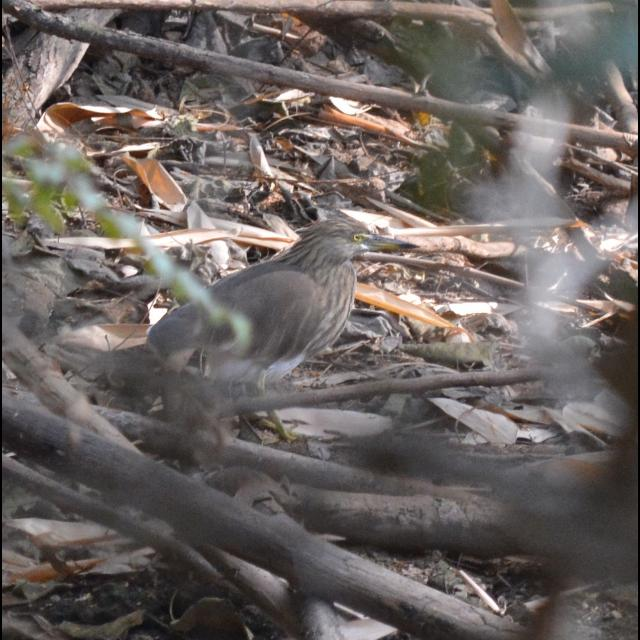heron: (156, 206, 430, 388)
